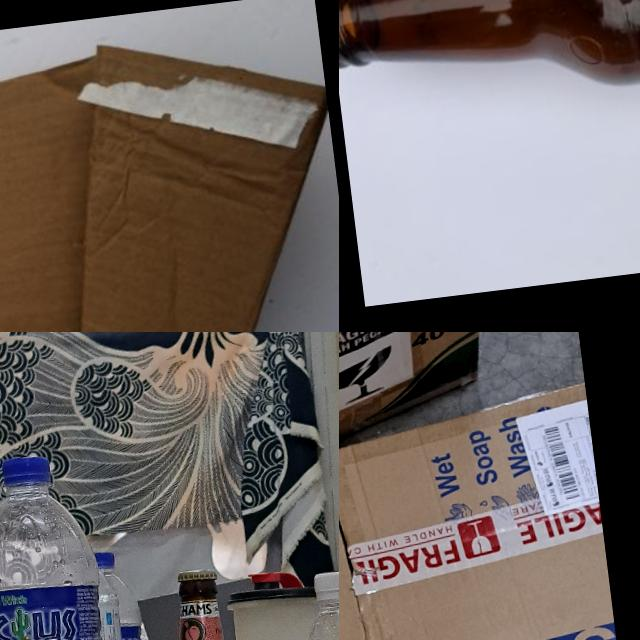garrafa de vidro: (339, 0, 640, 119), (144, 567, 258, 640)
garrafa plástica: (0, 472, 127, 640), (97, 564, 162, 640)
papelão: (0, 19, 339, 332), (339, 376, 638, 640), (339, 332, 509, 482)
tampa plástica: (0, 453, 51, 488), (312, 568, 339, 600), (94, 550, 115, 569)
